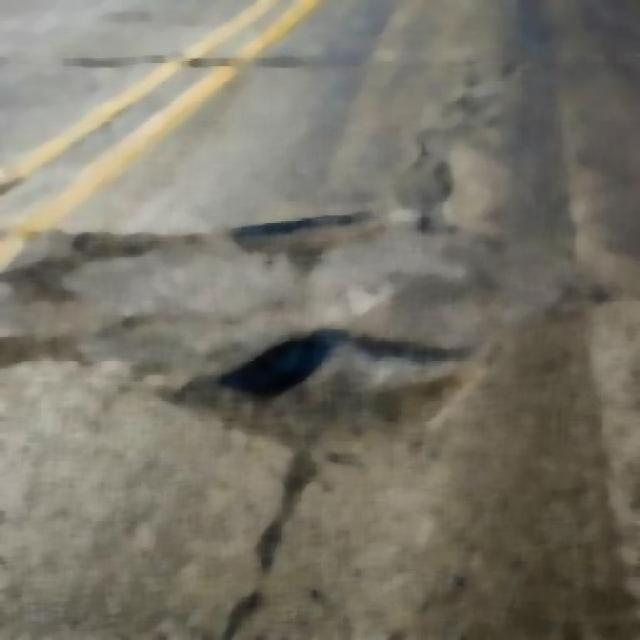Pothole: (160, 318, 492, 452)
